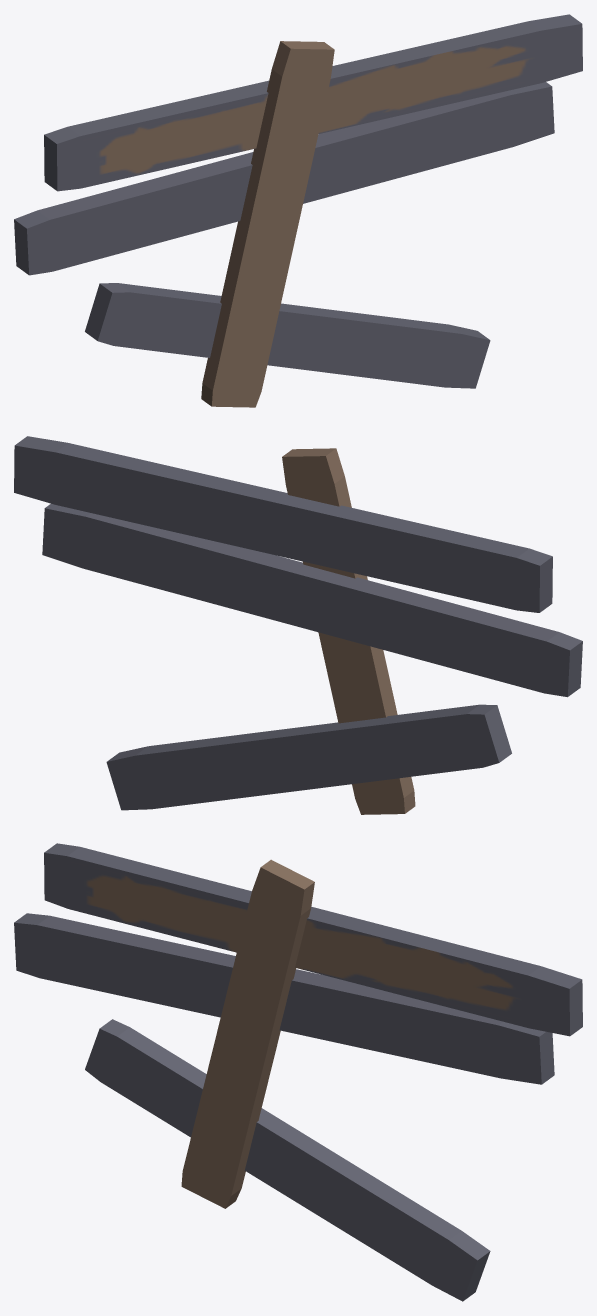
Rendered from SM_Prop_Shanty_BuildingAttachment_04.glb.
3 views of the same model, one above another, from view 1: azimuth 30°, elevation 25°; view 2: azimuth 150°, elevation 25°; view 3: azimuth 330°, elevation 25° (orthographic).
Visible parts, largest first — view 1: SM_Prop_Shanty_BuildingAttachment_04_part00; view 2: SM_Prop_Shanty_BuildingAttachment_04_part00; view 3: SM_Prop_Shanty_BuildingAttachment_04_part00.
Boxes of the visible parts, <box> form: SM_Prop_Shanty_BuildingAttachment_04_part00: <box>14,14,582,407</box>; SM_Prop_Shanty_BuildingAttachment_04_part00: <box>14,436,582,814</box>; SM_Prop_Shanty_BuildingAttachment_04_part00: <box>14,843,582,1301</box>.
Bounding box in the file's own units: 2.73 × 1.85 × 0.1835.
1 material, 1 textured.
